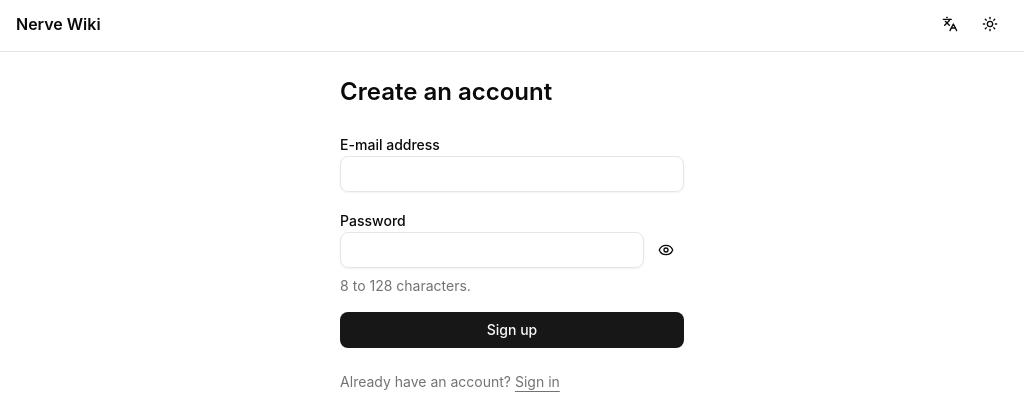
Test: the server's problems with a field show under it, focused, with nothing above the form
The image size is (1024, 409).
In the field labelled "E-mail address": (512, 174) [340,156,684,192], type "ada@example.com"
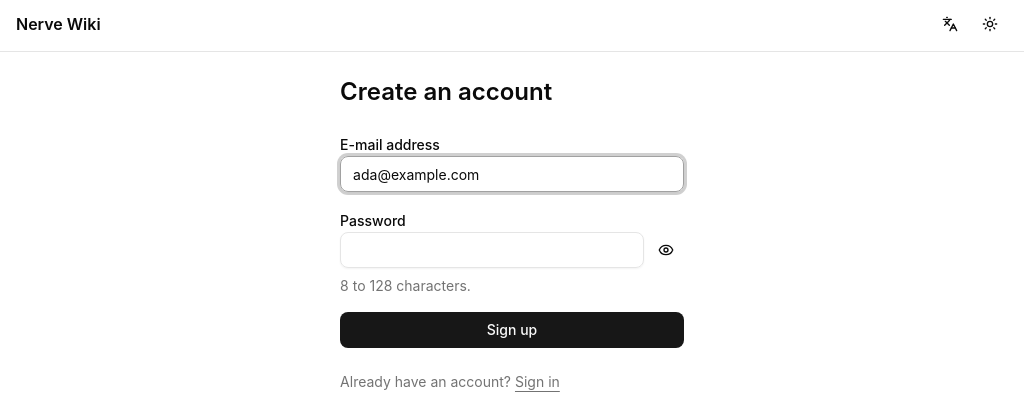
In the password field labelled "Password": (492, 250) [340,232,644,268], type "password1"
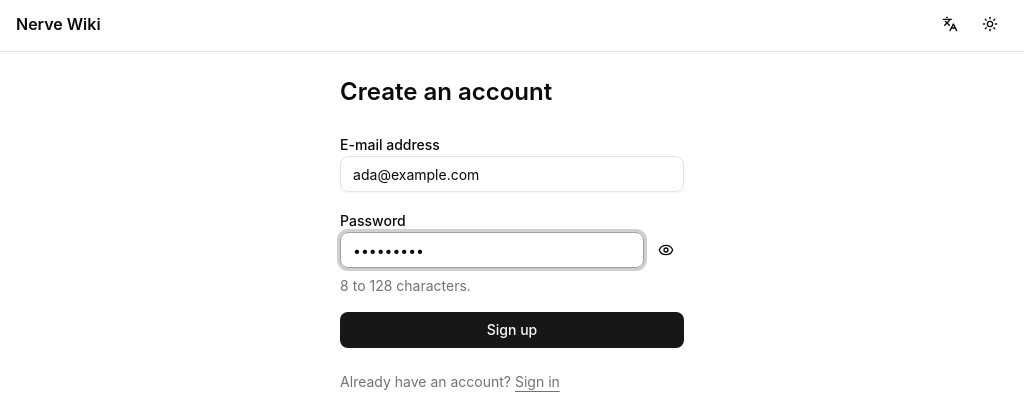
Click the button "Sign up": (512, 330) [340,312,684,348]
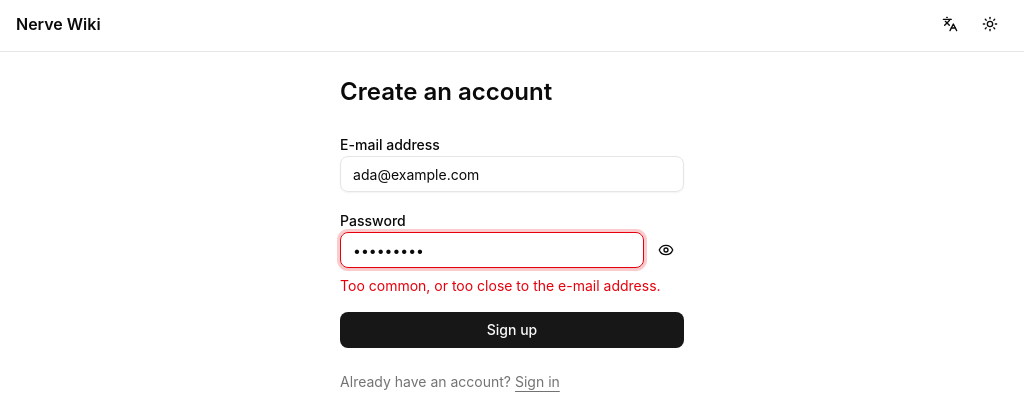
Expected: the text "Too common, or too close to the e-mail address." is shown, [340,276,684,296]
